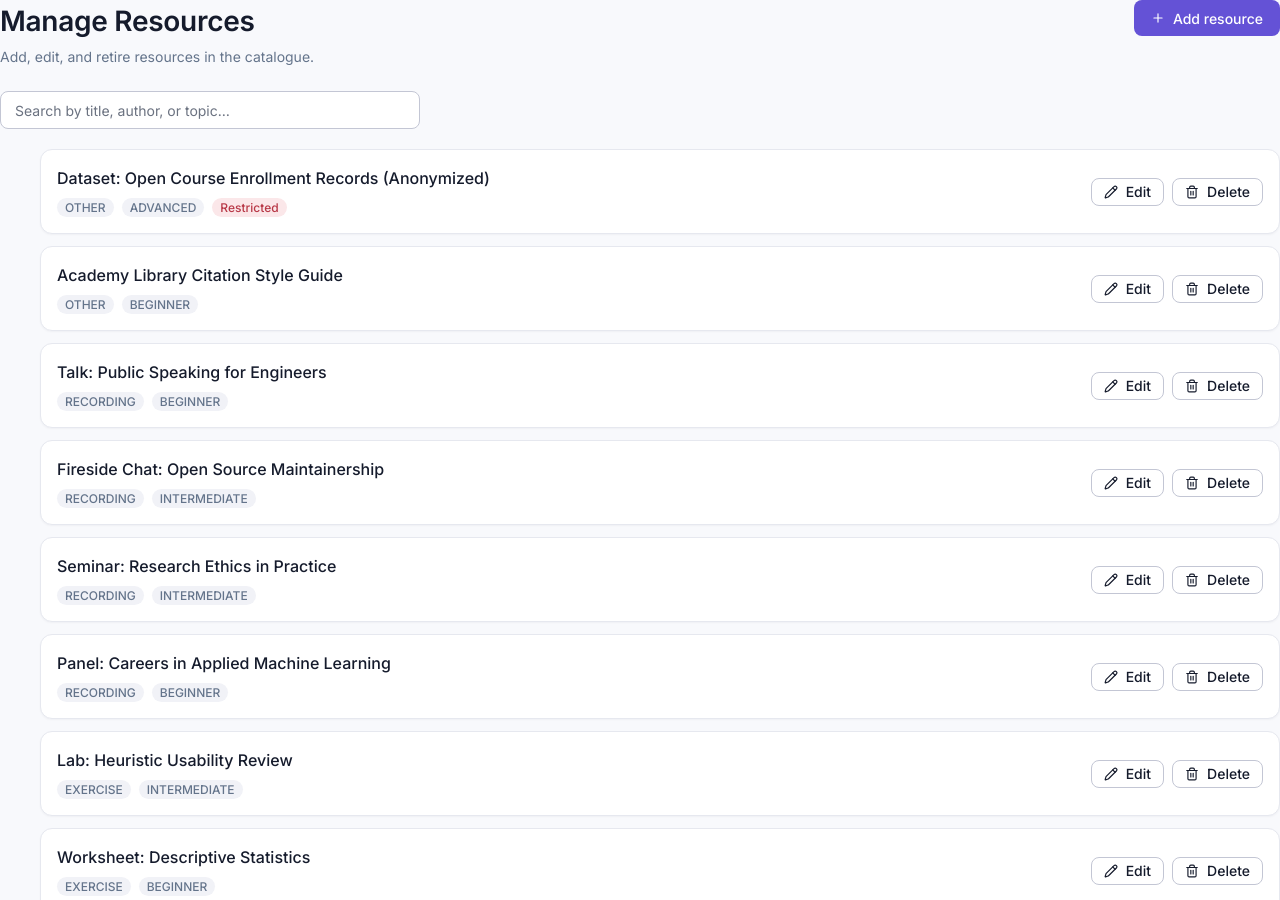
ManageResourcesPage › deletes a resource from the list after confirming
This screenshot has width=1280, height=900.
Click the 1st button "Delete" at (1218, 192), box [1172, 178, 1263, 206]
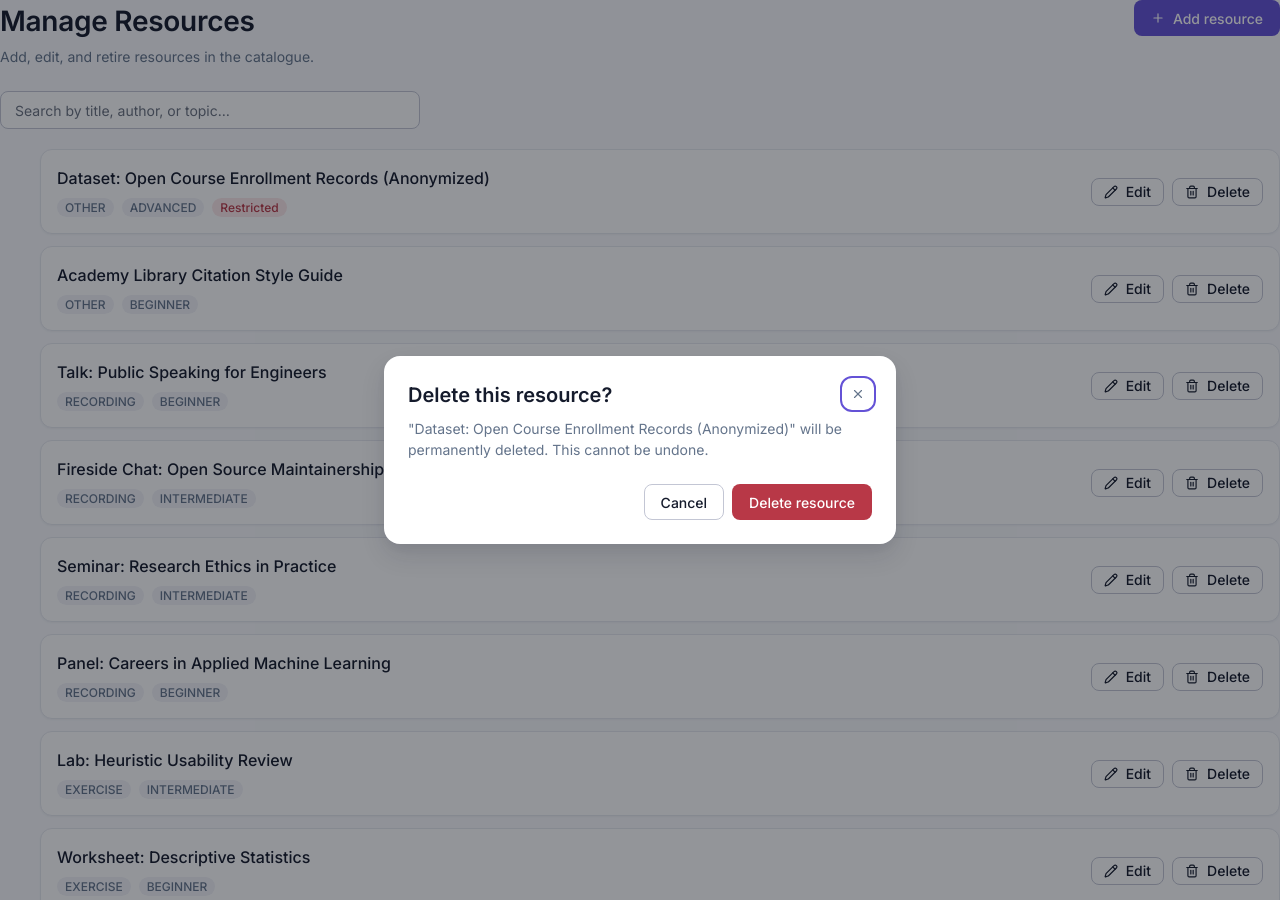
Click the button "Delete resource" at (802, 502), box [732, 484, 872, 520]
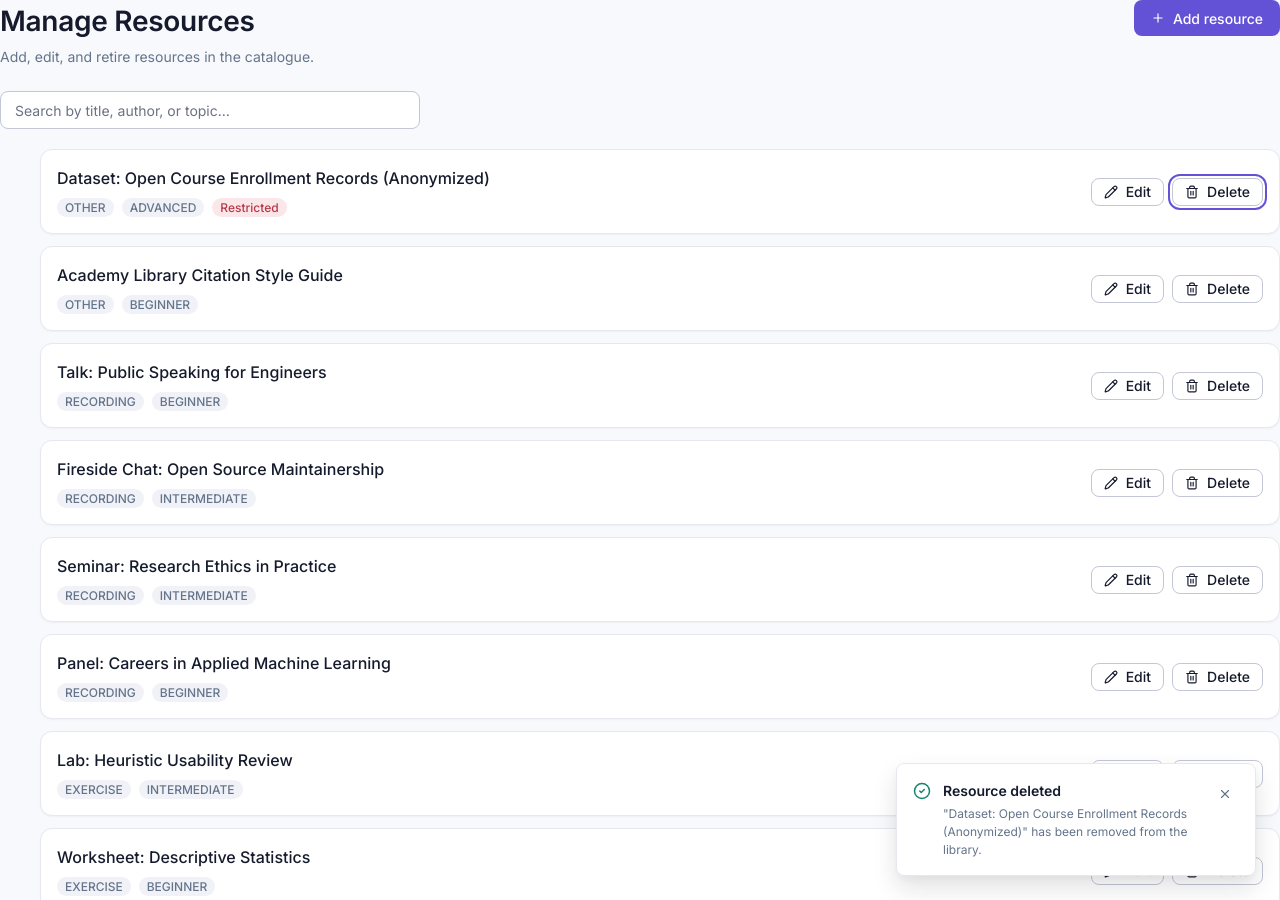
expect the text "Resource deleted" is shown: met, box [943, 782, 1061, 799]
